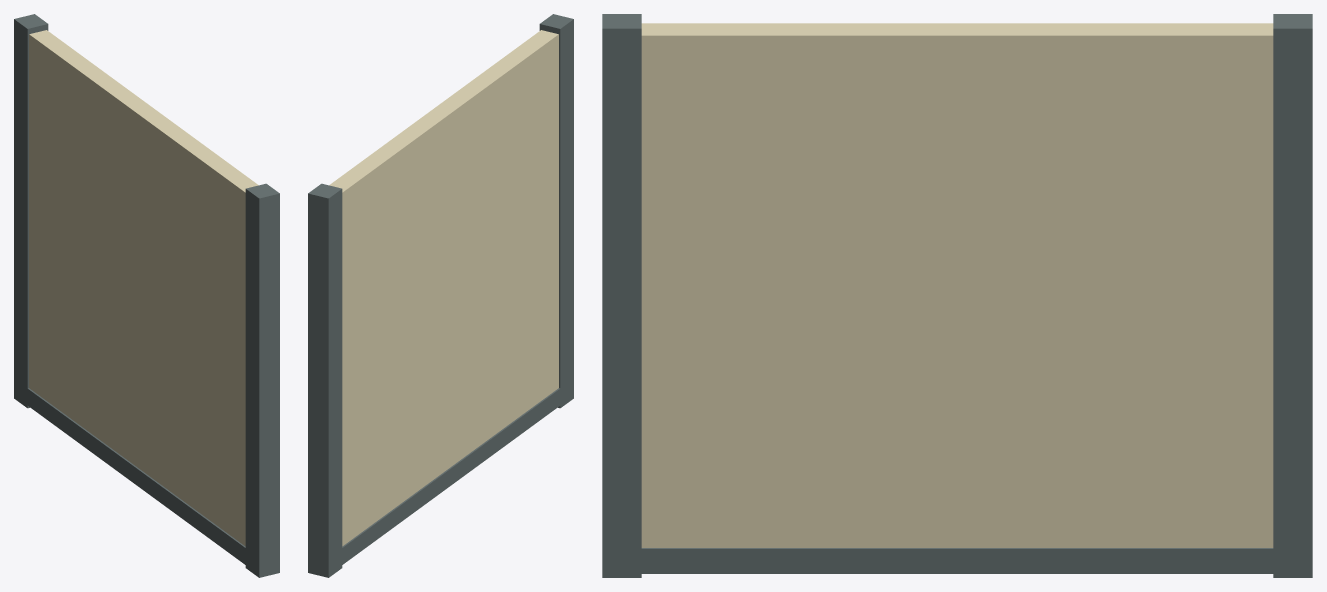
The model's file is LP_Toilet_CubicleDivider.fbx.
The picture shows the model from 3 angles, left to right: view 1: azimuth 30°, elevation 25°; view 2: azimuth 150°, elevation 25°; view 3: azimuth 270°, elevation 25°; orthographic projection. The views are drawn at different scales.
Parts seen in each view (by area): view 1: WarmIvory, M_Museum_BrushedMetal; view 2: WarmIvory, M_Museum_BrushedMetal; view 3: WarmIvory, M_Museum_BrushedMetal.
Part boxes in pixels (x1,y1,x2,y2): WarmIvory: (29,30,258,546); M_Museum_BrushedMetal: (14,14,279,577); WarmIvory: (329,30,558,546); M_Museum_BrushedMetal: (308,14,573,577); WarmIvory: (641,23,1273,547); M_Museum_BrushedMetal: (602,14,1312,577).
Size of the model in its own units: 12 by 210 by 246.
